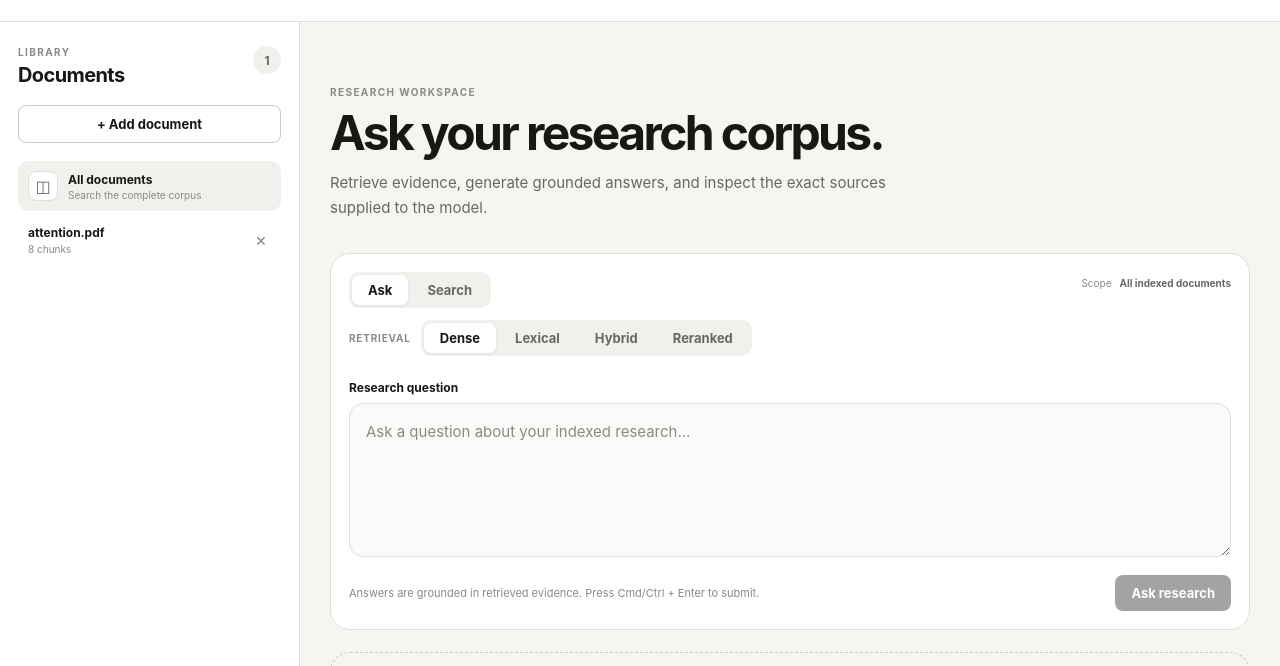
App › performs reranked search when reranked retrieval is selected
Click the button "Search".
click(450, 290)  # box [411,275,488,305]
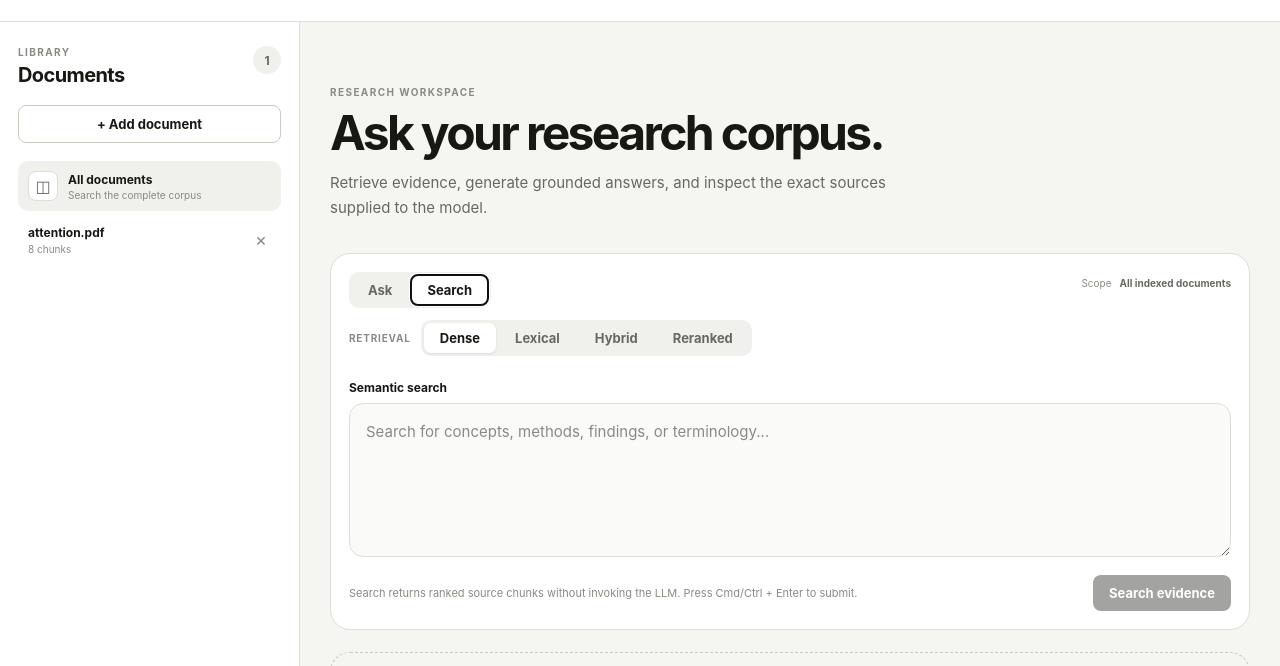
Click the button "Reranked".
click(703, 338)  # box [657,323,749,353]
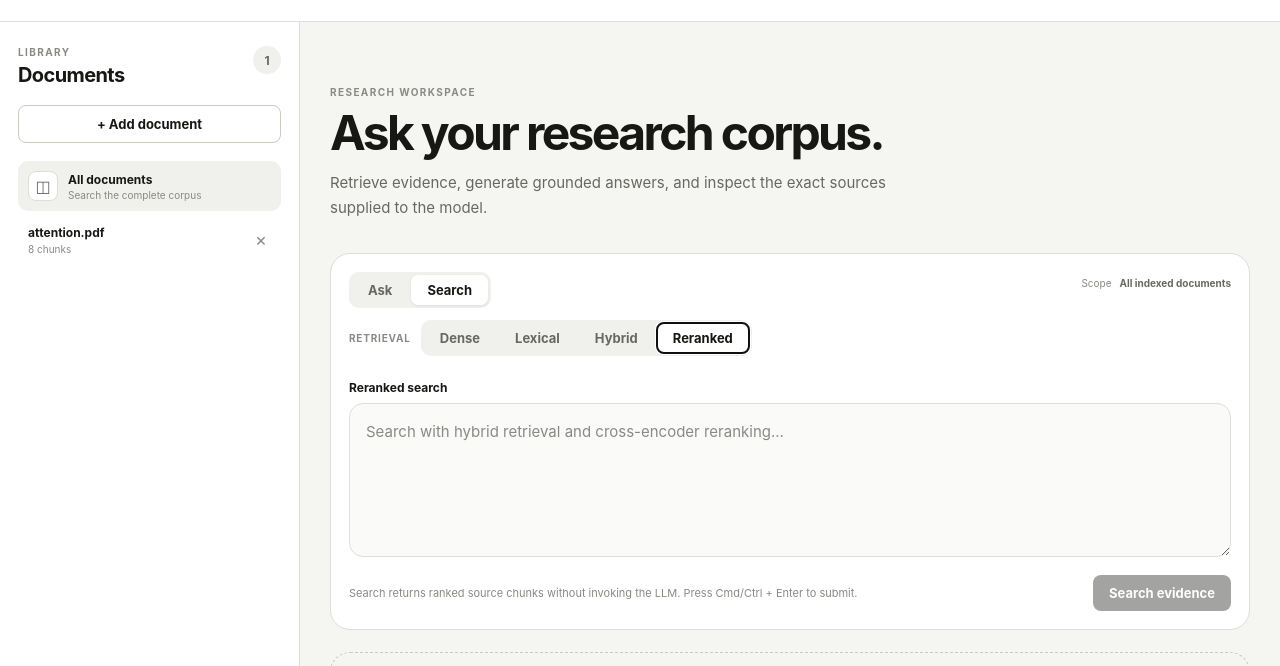
Expected: the button "Reranked" is pressed, [657,323,749,353]
Type "attention mechanisms" into the text box labelled "Reranked search".
click(790, 480); type("attention mechanisms")  # box [349,403,1231,557]
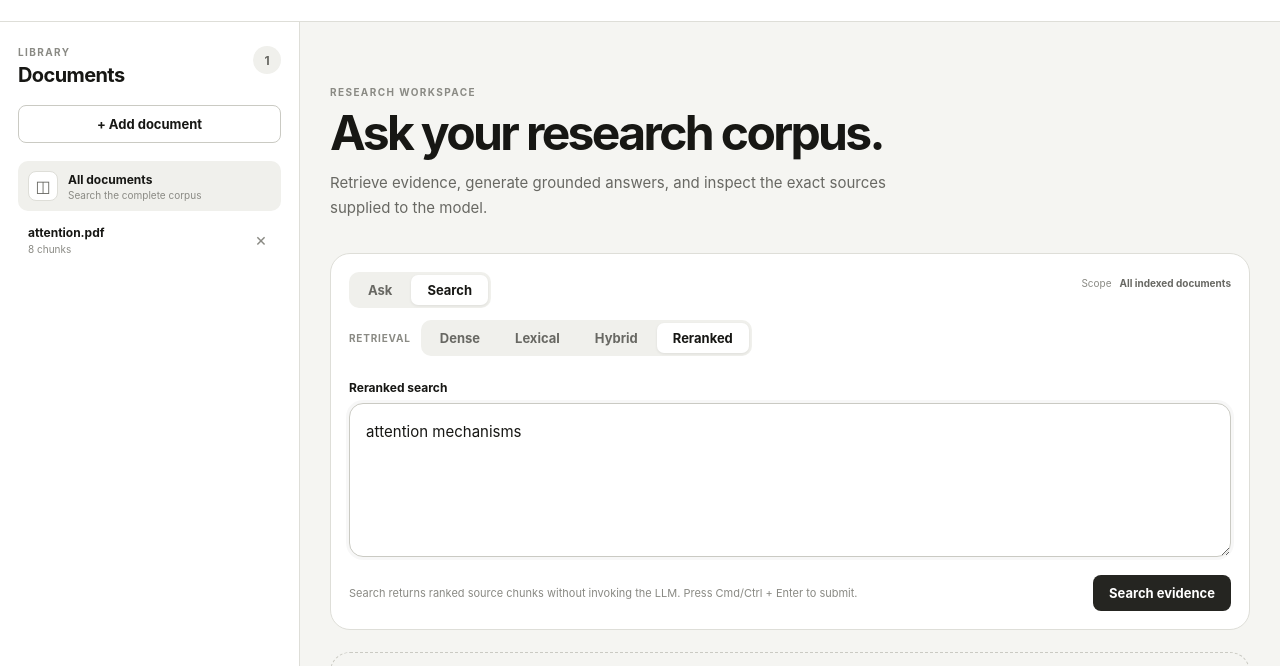
Click the button "Search evidence".
click(1162, 593)  # box [1093,575,1231,611]
(page scrolled)
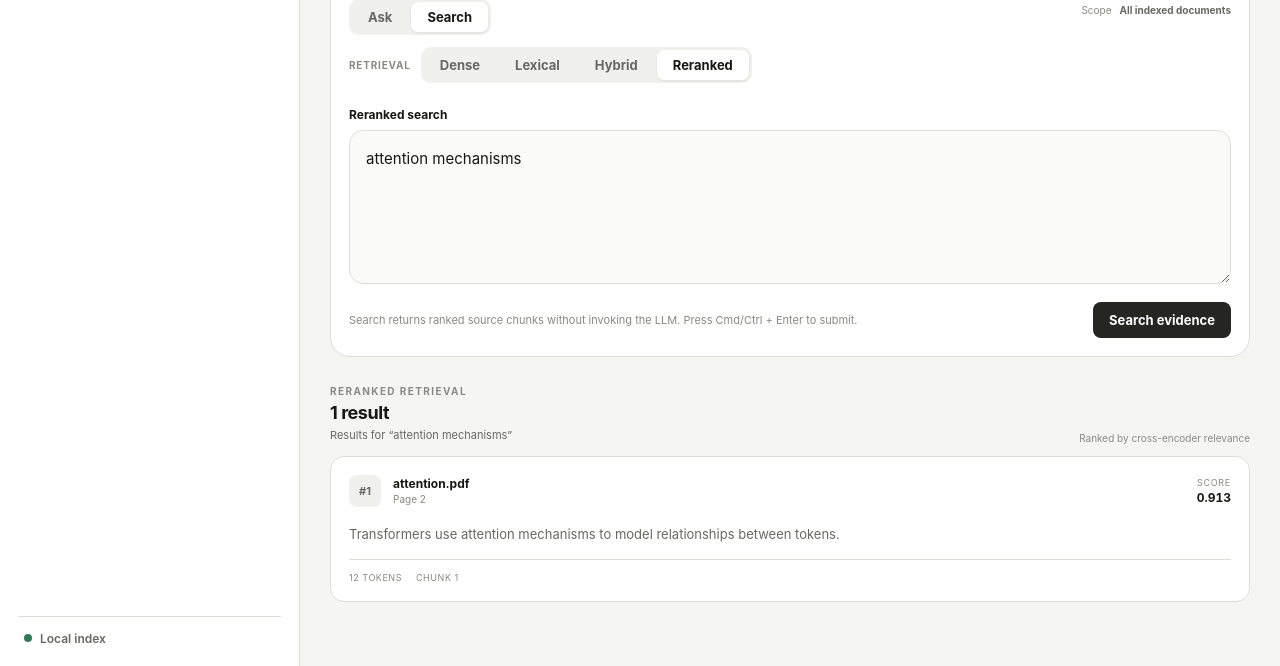
Expected: the text "RERANKED RETRIEVAL" is shown, [330,385,467,397]
Expected: the text "Ranked by cross-encoder relevance" is shown, [1079,432,1250,444]
